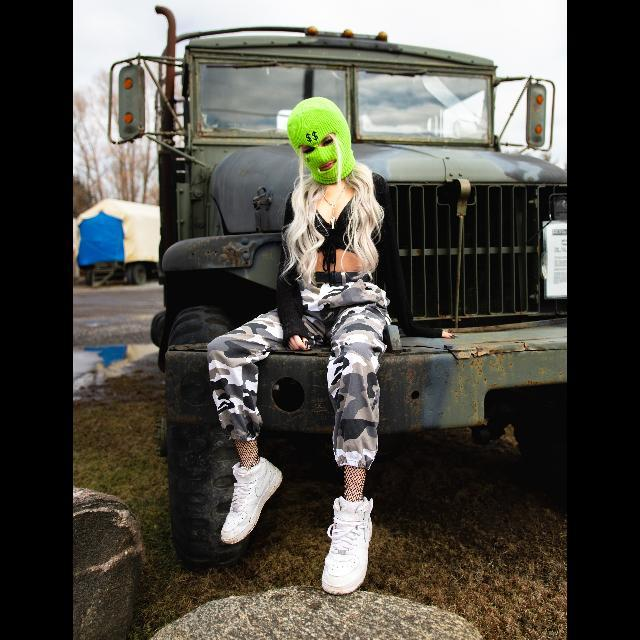criminal: (205, 97, 455, 593)
